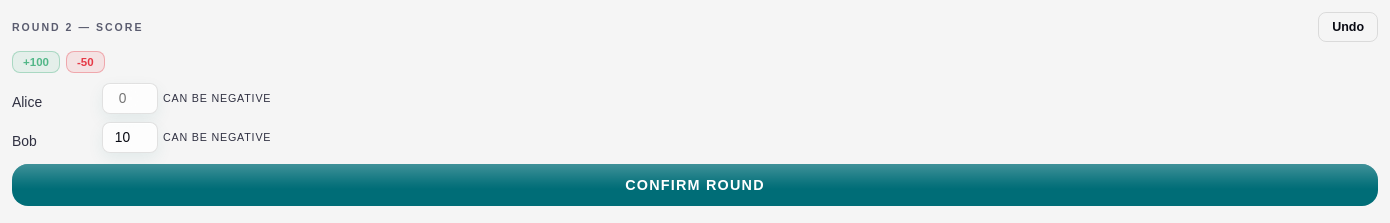
Test case: shared score input controls › quick buttons fill the first empty score and then accumulate on the first score
Click the button "+100": coordinates (36, 62) left=12, top=51, right=60, bottom=73
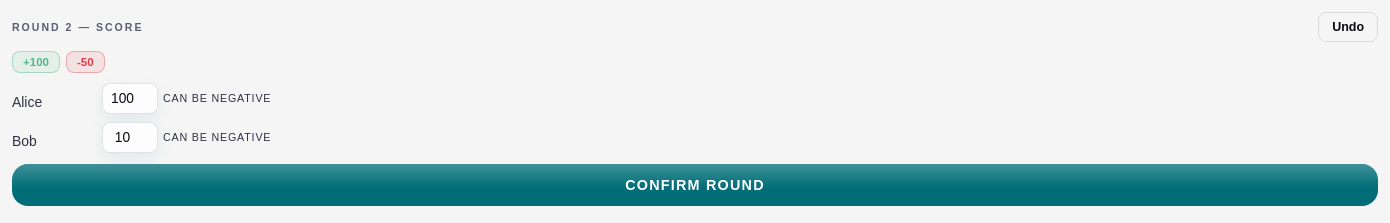
Expected: the number field named "Round Bob" holds "10", left=102, top=122, right=158, bottom=153
Result: the number field named "Round Alice" holds "100" at left=102, top=83, right=158, bottom=114
Click the button "-50": coordinates (85, 62) left=66, top=51, right=105, bottom=73
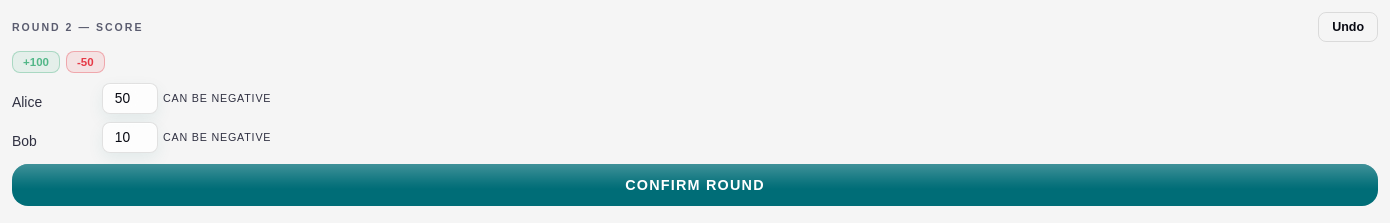
Result: the number field named "Round Alice" holds "50" at left=102, top=83, right=158, bottom=114
